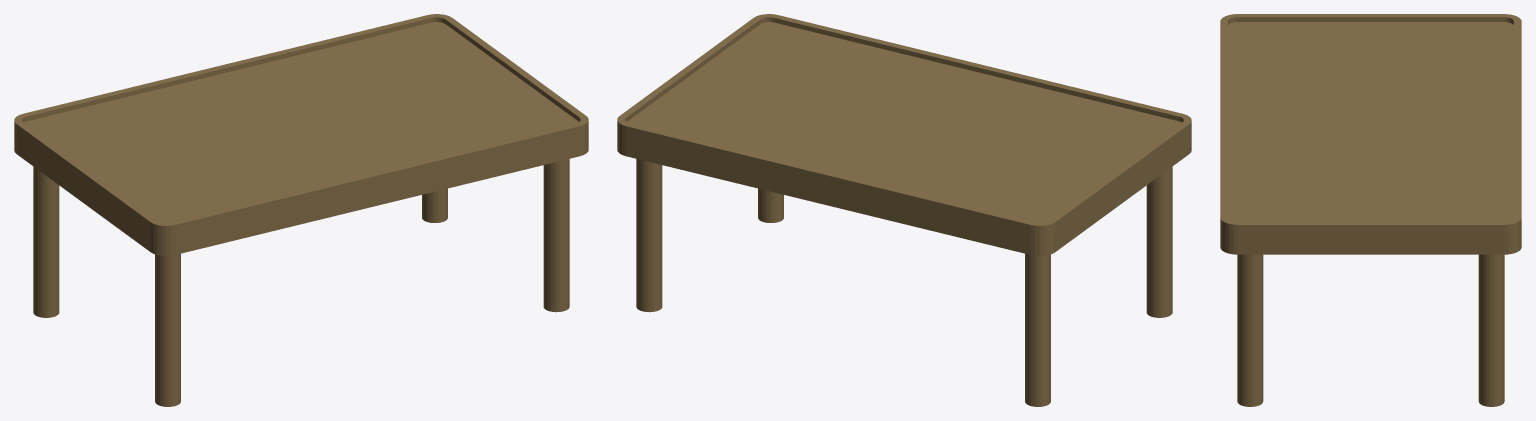
File: Table2.fbx
3 views of the same model, side by side, from view 1: azimuth 30°, elevation 25°; view 2: azimuth 150°, elevation 25°; view 3: azimuth 270°, elevation 25° (orthographic).
Parts seen in each view (by area): view 1: Cylinder; view 2: Cylinder; view 3: Cylinder.
Boxes of the visible parts, left/top/right/bottom form: Cylinder: left=14, top=14, right=588, bottom=406; Cylinder: left=617, top=14, right=1191, bottom=406; Cylinder: left=1220, top=14, right=1521, bottom=406.
Bounding box in the file's own units: 854 × 355 × 516.
